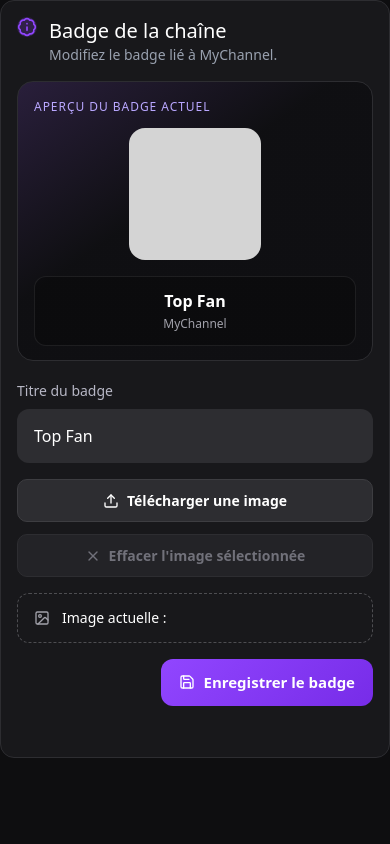
ChannelBadgeManager › renders the channel badge and saves title updates
This screenshot has width=390, height=844.
Expected: the heading "Badge de la chaîne" is shown, 49,17 -> 227,44
Step 1. Replace the text in the field labelled "Titre du badge" with "Super Fan" → (195, 436), box 17,409 -> 373,463
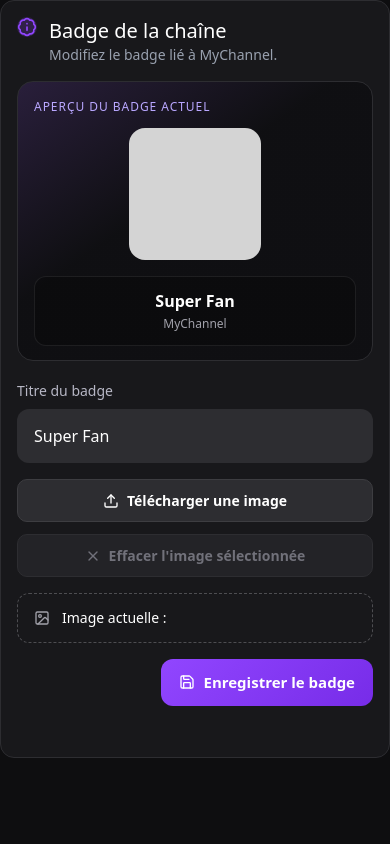
Step 2. Click the button "Enregistrer le badge" → (267, 682), box 162,659 -> 373,706
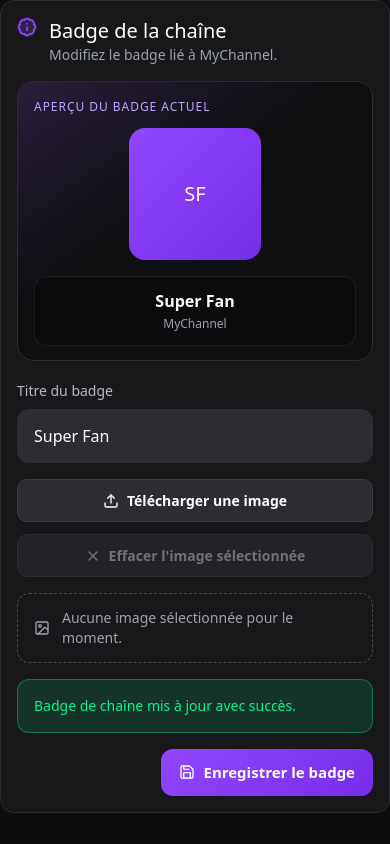
Result: the text "Badge de chaîne mis à jour avec succès." is shown at 17,679 -> 373,733
